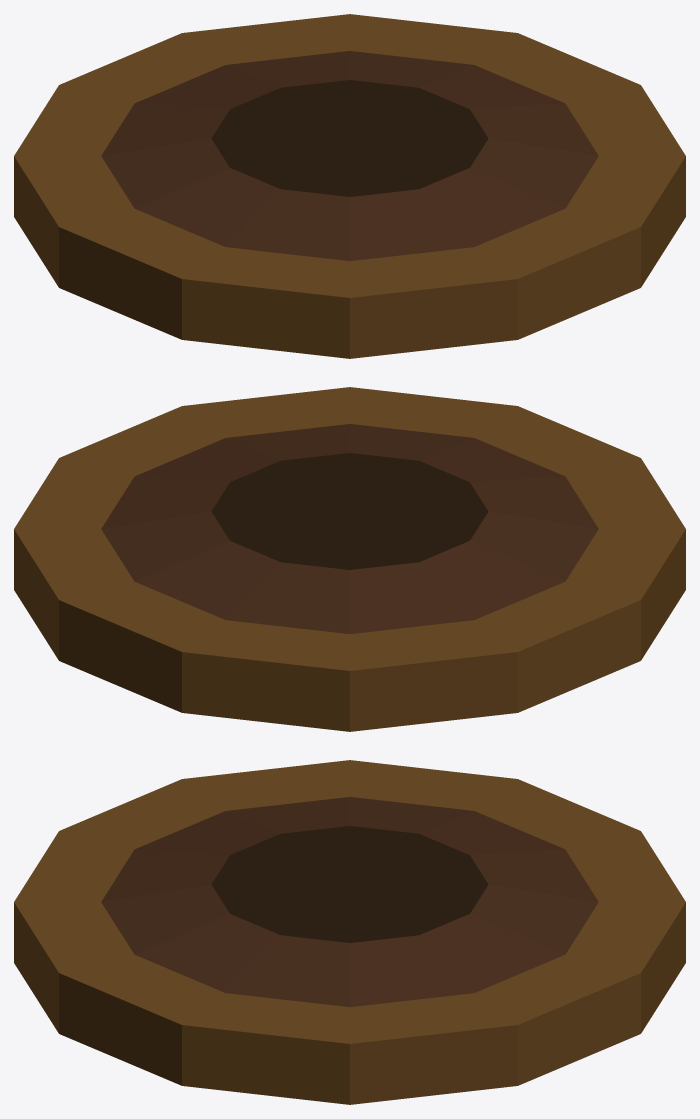
File: char_000_weapon_04_sample_04_shield_FBX.fbx
The picture shows the model from 3 angles, top to bottom: view 1: azimuth 30°, elevation 25°; view 2: azimuth 150°, elevation 25°; view 3: azimuth 270°, elevation 25°; orthographic projection.
Parts seen in each view (by area): view 1: shield.002; view 2: shield.002; view 3: shield.002.
Boxes of the visible parts, bbox=[...] form: shield.002: bbox=[14, 14, 685, 358]; shield.002: bbox=[14, 387, 685, 731]; shield.002: bbox=[14, 760, 685, 1104].
Size of the model in its own units: 2 by 0.504 by 2.
1 material, 1 textured.
